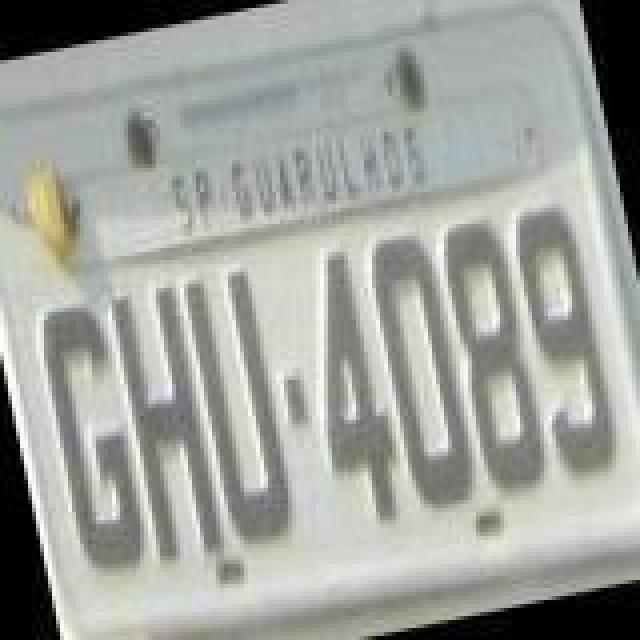4: (282, 248, 406, 536)
8: (430, 206, 554, 498)
9: (502, 196, 626, 484)
G: (26, 298, 150, 582)
H: (100, 278, 228, 570)
O: (358, 222, 482, 514)
U: (176, 262, 304, 554)
